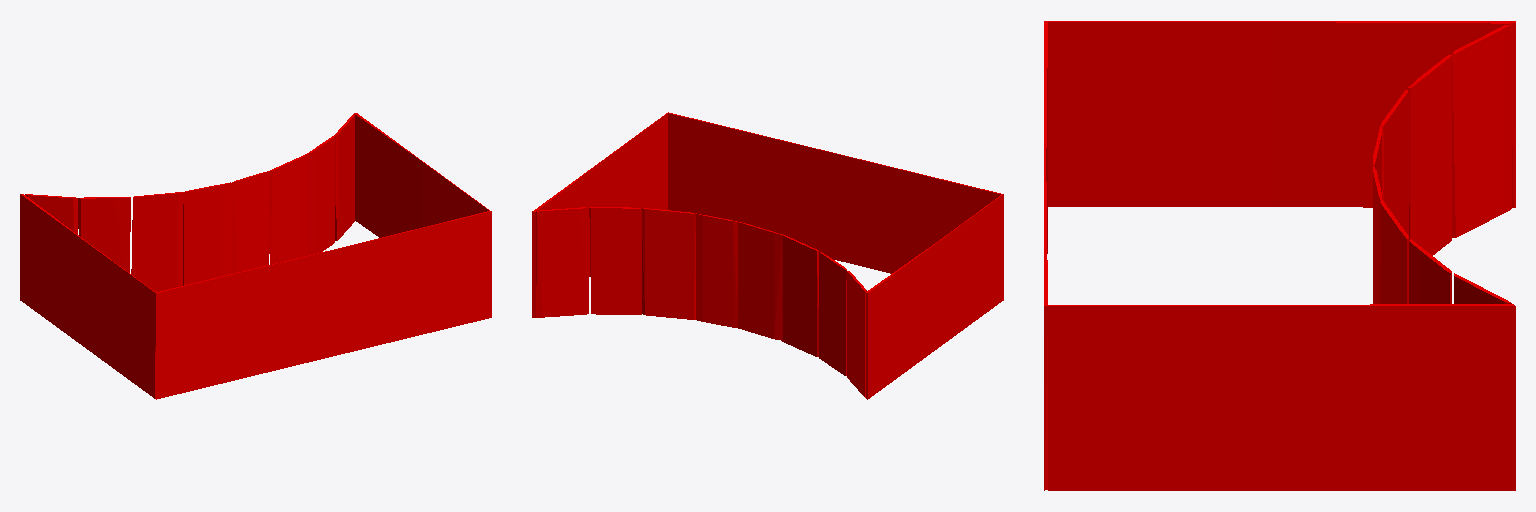
robot.urdf — concave-object:
<?xml version="1.0"?>
<robot name="concave-object">

  <link name="base_link">
    <visual>
      <geometry>
        <mesh filename="package://asset/real-world/concave-object/concave-object-vhacd.obj" scale="1 1 1"/>
      </geometry>
      <material name="color">
        <color rgba="1 0 0 1"/> <!-- Red. a: transparency. -->
      </material>
    </visual>
    <collision>
      <geometry>
        <mesh filename="package://asset/real-world/concave-object/concave-object-vhacd.obj" scale="1 1 1"/>
      </geometry>
    </collision>
    <inertial>
      <mass value="43"/> 
      <origin xyz="0 0 0"/> 
      <inertia ixx="1" iyy="1" izz="1"/> 
    </inertial>

  </link>

</robot>

--- Render facts (derived) ---
3 views of the same robot in one strip: view 1: azimuth 30°, elevation 25°; view 2: azimuth 150°, elevation 25°; view 3: azimuth 270°, elevation 25° (orthographic).
Robot: concave-object — 1 links, 0 joints (none); root link base_link; default pose: every joint at zero.
Links seen in each view (by area): view 1: base_link; view 2: base_link; view 3: base_link.
Boxes of the visible links, x1,y1,x2,y2 form: base_link: [20, 113, 491, 399]; base_link: [532, 112, 1003, 399]; base_link: [1044, 21, 1515, 490].
Size in the robot's own frame: 1 by 0.7016 by 0.3038 metres.
1 mesh visuals loaded from 1 distinct referenced files (1 OBJ).